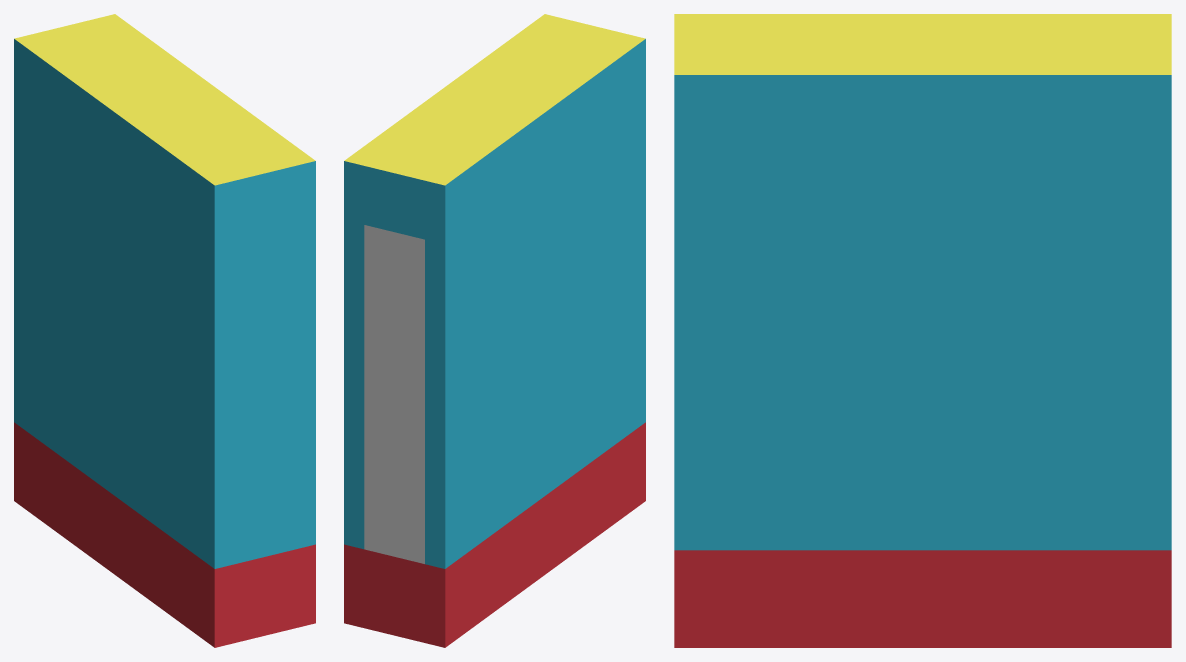
The model's file is CerealBoxV1.fbx.
3 renders of one model, left to right at view 1: azimuth 30°, elevation 25°; view 2: azimuth 150°, elevation 25°; view 3: azimuth 270°, elevation 25°, orthographic. The views are drawn at different scales.
Visible parts, largest first — view 1: Cube; view 2: Cube; view 3: Cube.
Boxes of the visible parts, x1,y1,x2,y2 form: Cube: (14, 14, 315, 647); Cube: (344, 14, 645, 647); Cube: (674, 14, 1171, 647).
Bounding box in the file's own units: 364 × 106 × 462.
